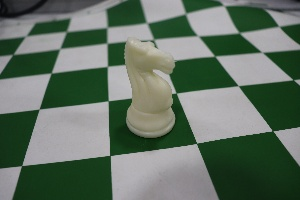white_horse: (113, 26, 186, 148)
